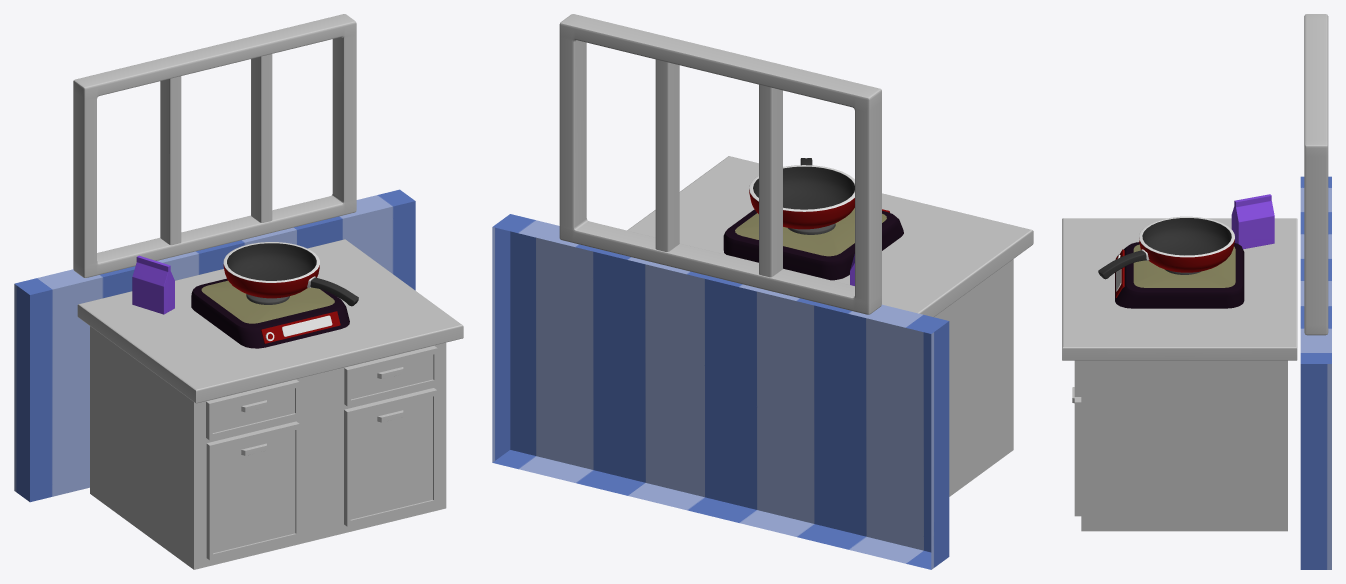
Rendered from kitchen ware.fbx.
3 renders of one model, left to right at view 1: azimuth 30°, elevation 25°; view 2: azimuth 150°, elevation 25°; view 3: azimuth 270°, elevation 25°, orthographic. The views are drawn at different scales.
Parts seen in each view (by area): view 1: polySurface20, wall1, polySurface5, pCube2, pCube16, polySurface13, pannel1, polySurface7, polySurface19, pCube15, pCube3, pCube7 (+1 smaller); view 2: wall1, polySurface20, polySurface5, polySurface13, polySurface19, polySurface7, pannel1; view 3: polySurface20, wall1, polySurface5, polySurface13, pannel1, pCube7, pCube16.
Boxes of the visible parts, bbox=[...] form: polySurface20: bbox=[77, 239, 463, 569]; wall1: bbox=[14, 189, 415, 502]; polySurface5: bbox=[73, 14, 356, 278]; pCube2: bbox=[206, 421, 299, 560]; pCube16: bbox=[344, 388, 436, 526]; polySurface13: bbox=[191, 278, 349, 348]; pannel1: bbox=[223, 242, 358, 306]; polySurface7: bbox=[160, 76, 181, 245]; polySurface19: bbox=[251, 54, 272, 222]; pCube15: bbox=[344, 346, 437, 406]; pCube3: bbox=[206, 379, 299, 440]; pCube7: bbox=[132, 255, 174, 314]; wall1: bbox=[492, 214, 949, 569]; polySurface20: bbox=[627, 156, 1033, 496]; polySurface5: bbox=[559, 14, 881, 314]; polySurface13: bbox=[723, 208, 903, 280]; polySurface19: bbox=[655, 59, 679, 251]; polySurface7: bbox=[759, 84, 782, 277]; pannel1: bbox=[749, 158, 854, 229]; polySurface20: bbox=[1062, 218, 1297, 531]; wall1: bbox=[1300, 176, 1331, 569]; polySurface5: bbox=[1304, 14, 1328, 335]; polySurface13: bbox=[1115, 242, 1244, 308]; pannel1: bbox=[1098, 216, 1234, 279]; pCube7: bbox=[1231, 194, 1274, 249]; pCube16: bbox=[1074, 397, 1081, 516].
Bounding box in the file's own units: 22.69 × 22.45 × 13.83.
